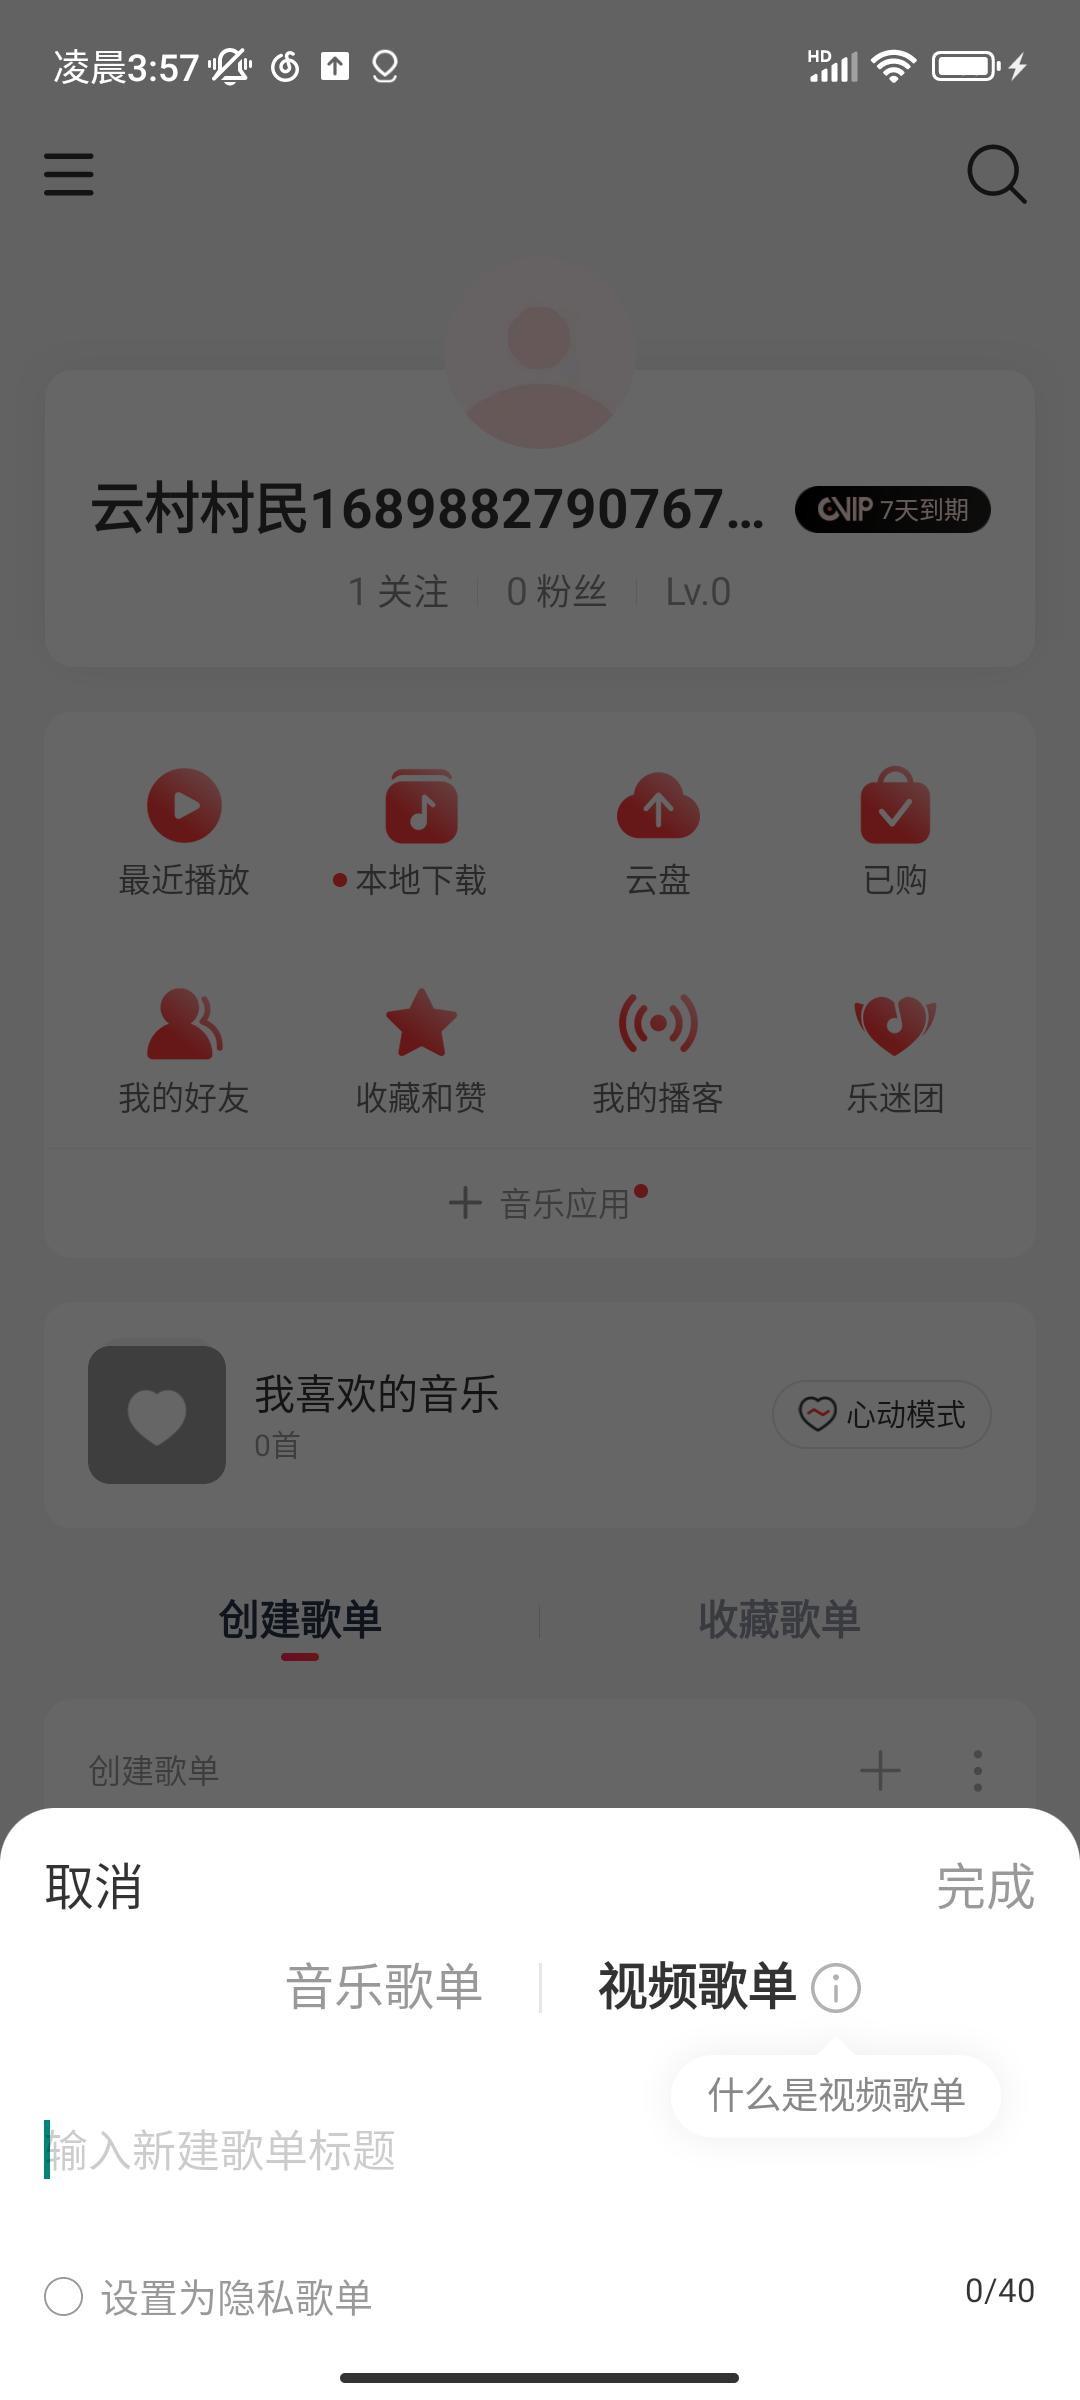ui_group: (11, 1812, 1078, 2354)
